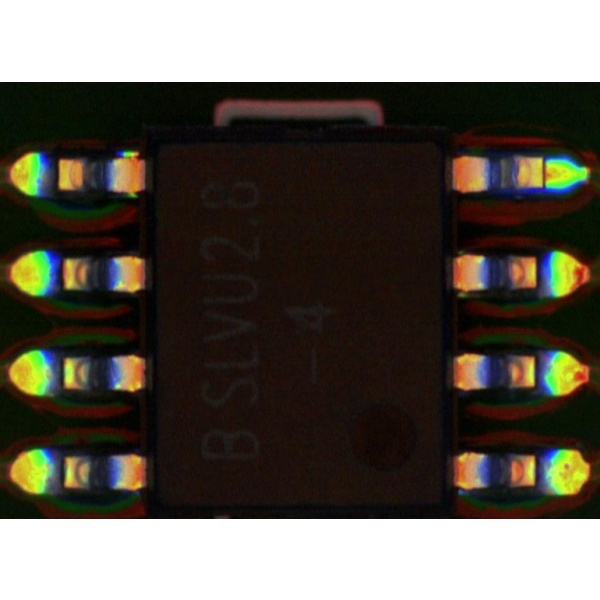Bad_podu: (536, 159, 552, 187)
